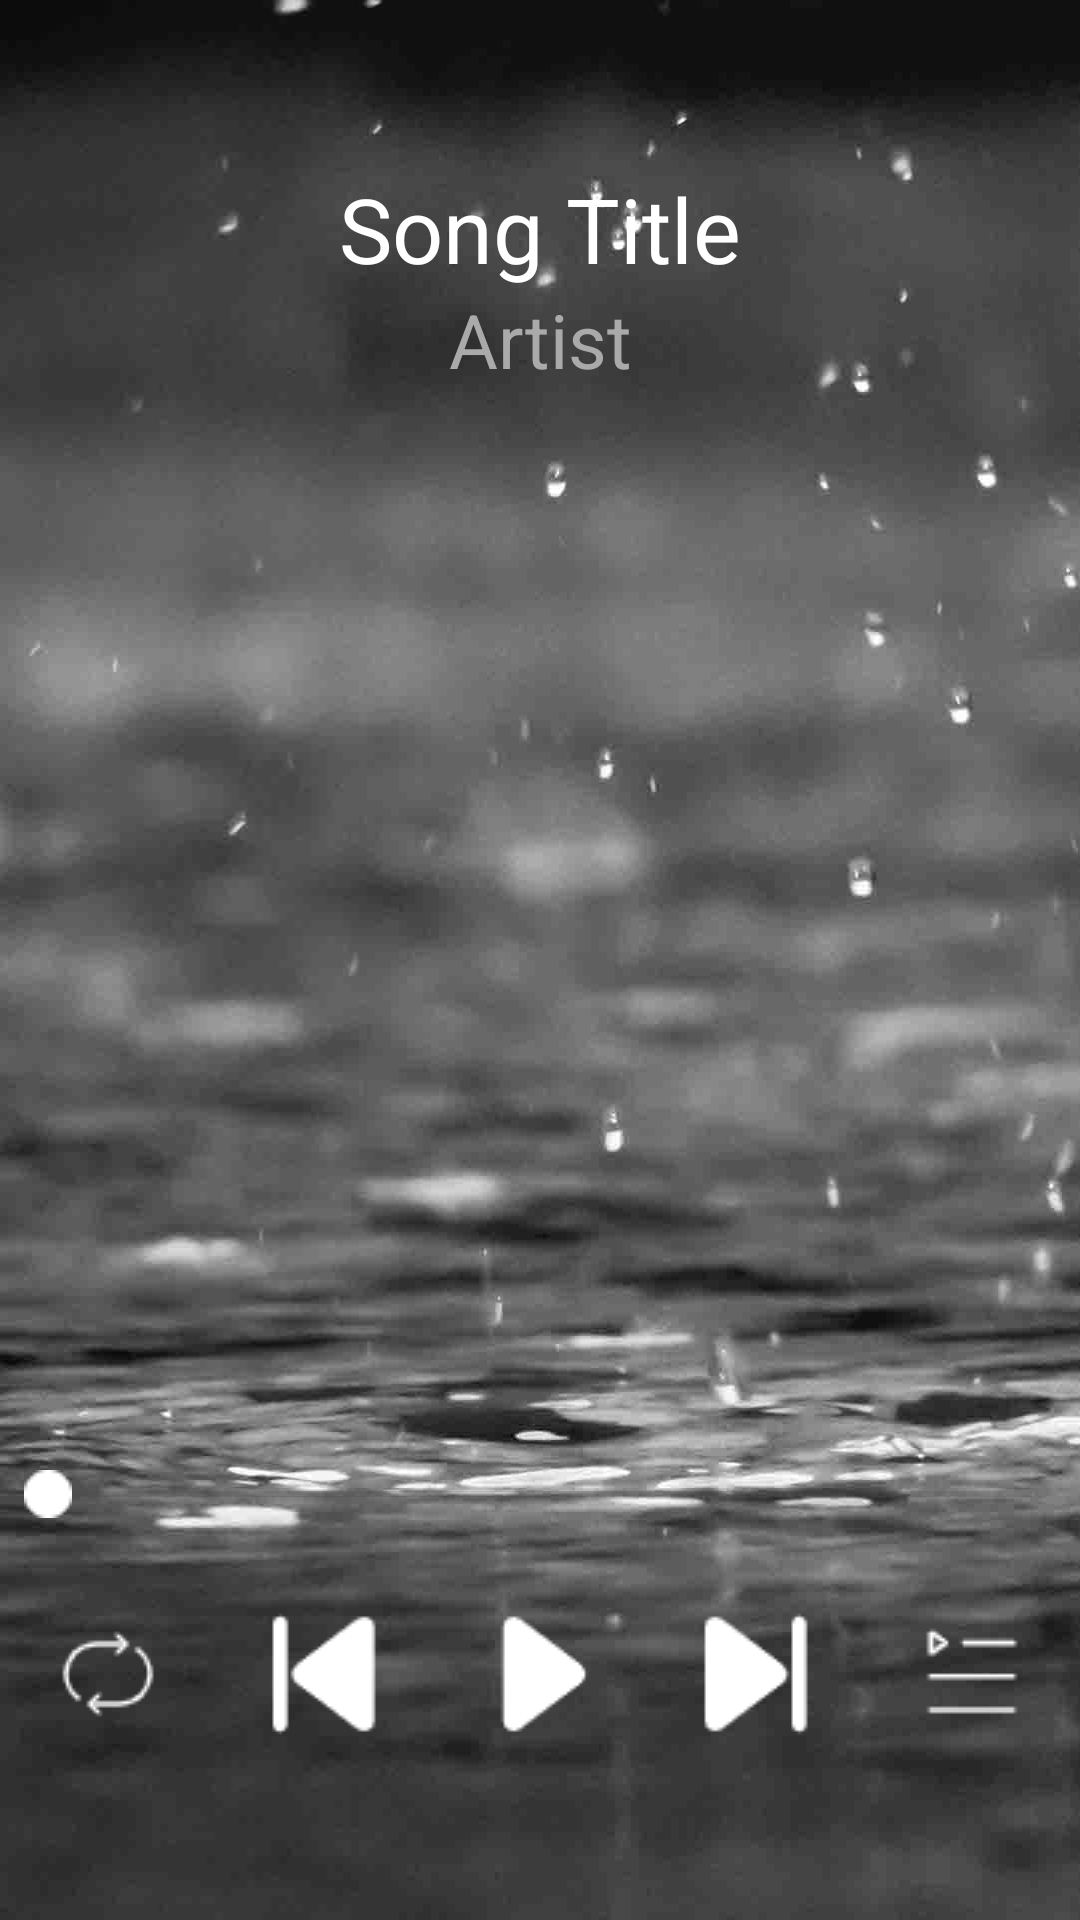

Icon click points for this 1080px x 1920px phone screenshot, format point (x, y):
last: point (348, 1659)
list: point (972, 1674)
Next: point (756, 1655)
order: point (77, 1656)
Play/Pause: point (540, 1666)
